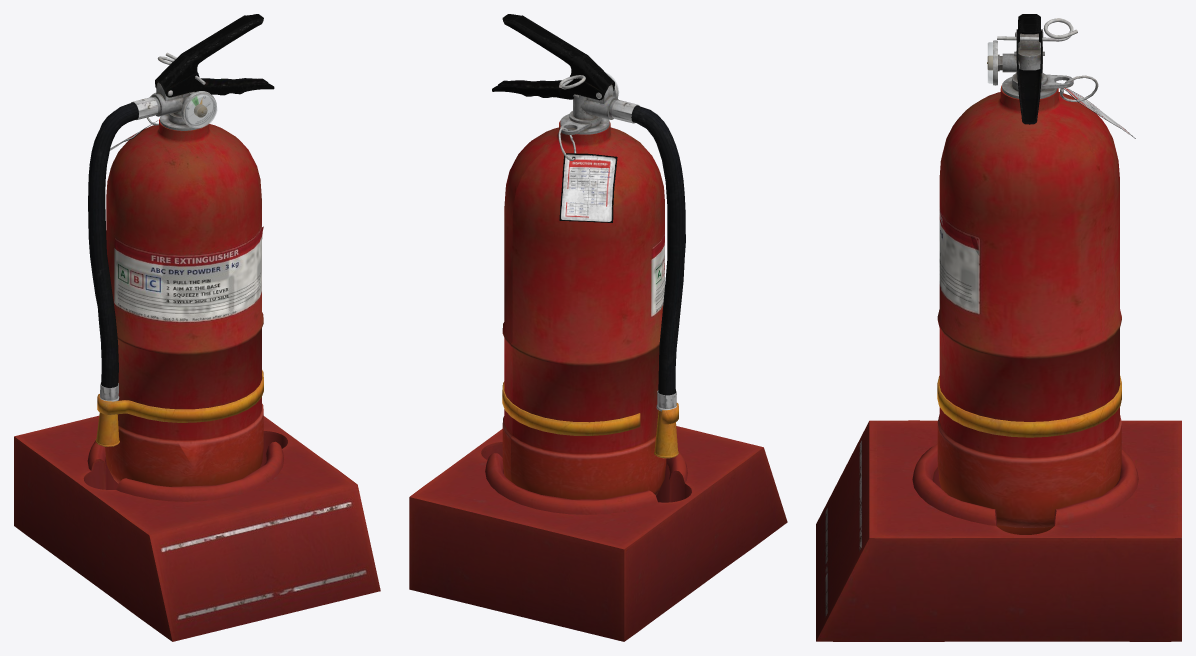
The model's file is FireExtinguisher.obj.
3 views of the same model, side by side, from view 1: azimuth 30°, elevation 25°; view 2: azimuth 150°, elevation 25°; view 3: azimuth 270°, elevation 25° (orthographic). The views are drawn at different scales.
Visible parts, largest first — view 1: Body, GaugeGlass; view 2: Body, Tag; view 3: Body.
Boxes of the visible parts, x1=… form: Body: x1=14, y1=14, x2=380, y2=641; GaugeGlass: x1=184, y1=94, x2=216, y2=127; Body: x1=409, y1=14, x2=787, y2=641; Tag: x1=559, y1=153, x2=617, y2=222; Body: x1=816, y1=14, x2=1181, y2=641.
Bounding box in the file's own units: 0.28 × 0.6591 × 0.3674.
Materials: 3 (2 with a texture image).
